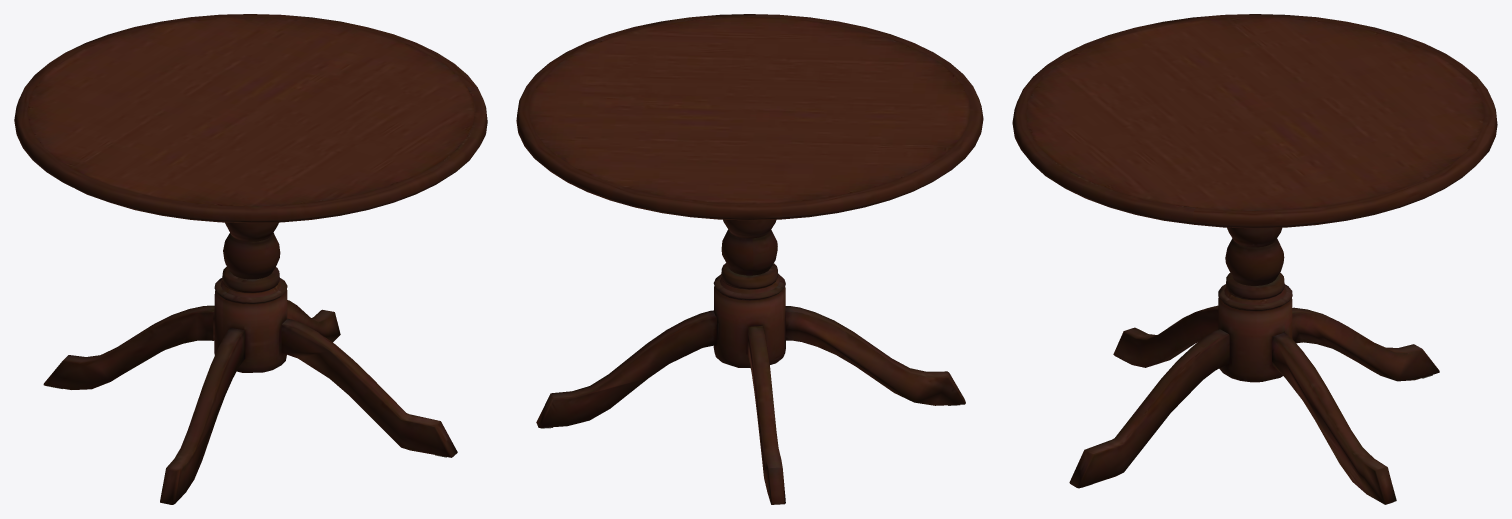
The model's file is round_wooden_table_01.glb.
The picture shows the model from 3 angles, left to right: view 1: azimuth 30°, elevation 25°; view 2: azimuth 150°, elevation 25°; view 3: azimuth 270°, elevation 25°; orthographic projection. The views are drawn at different scales.
Visible parts, largest first — view 1: round_wooden_table_01; view 2: round_wooden_table_01; view 3: round_wooden_table_01.
Boxes of the visible parts, x1,y1,x2,y2 form: round_wooden_table_01: [14, 14, 487, 504]; round_wooden_table_01: [516, 14, 983, 504]; round_wooden_table_01: [1012, 14, 1497, 504].
Size of the model in its own units: 1.4 by 1 by 1.4.
Materials: 1 (1 with a texture image).
